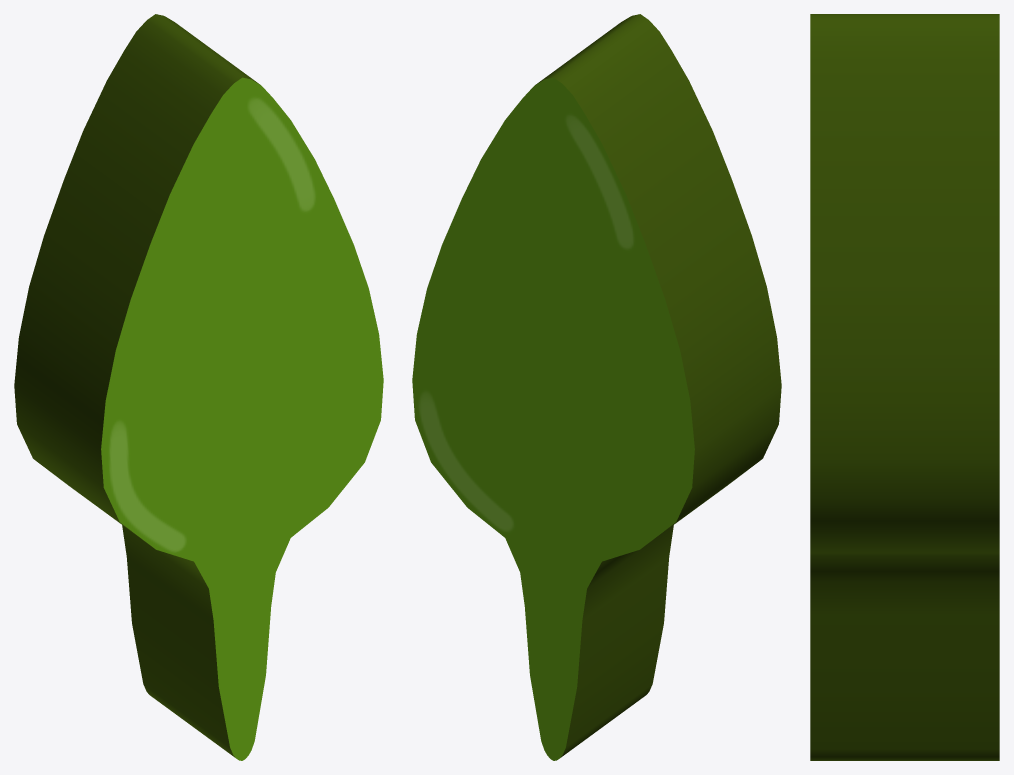
The model's file is mesh_Bay_Leaf_v1.0.fbx.
The picture shows the model from 3 angles, left to right: view 1: azimuth 30°, elevation 25°; view 2: azimuth 150°, elevation 25°; view 3: azimuth 270°, elevation 25°; orthographic projection. The views are drawn at different scales.
Visible parts, largest first — view 1: pCube36; view 2: pCube36; view 3: pCube36.
Boxes of the visible parts, x1,y1,x2,y2 form: pCube36: [14, 14, 383, 760]; pCube36: [412, 14, 781, 760]; pCube36: [810, 14, 999, 760].
Size of the model in its own units: 54.67 by 126 by 29.08.
